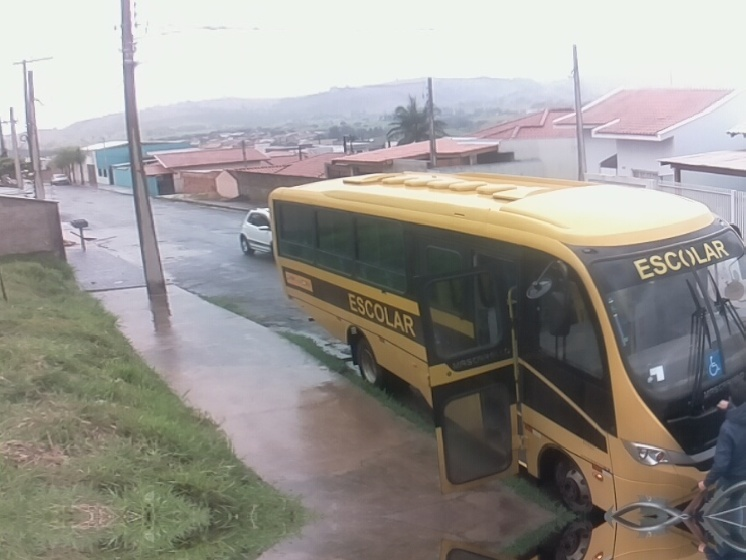person: (697, 376, 746, 560)
